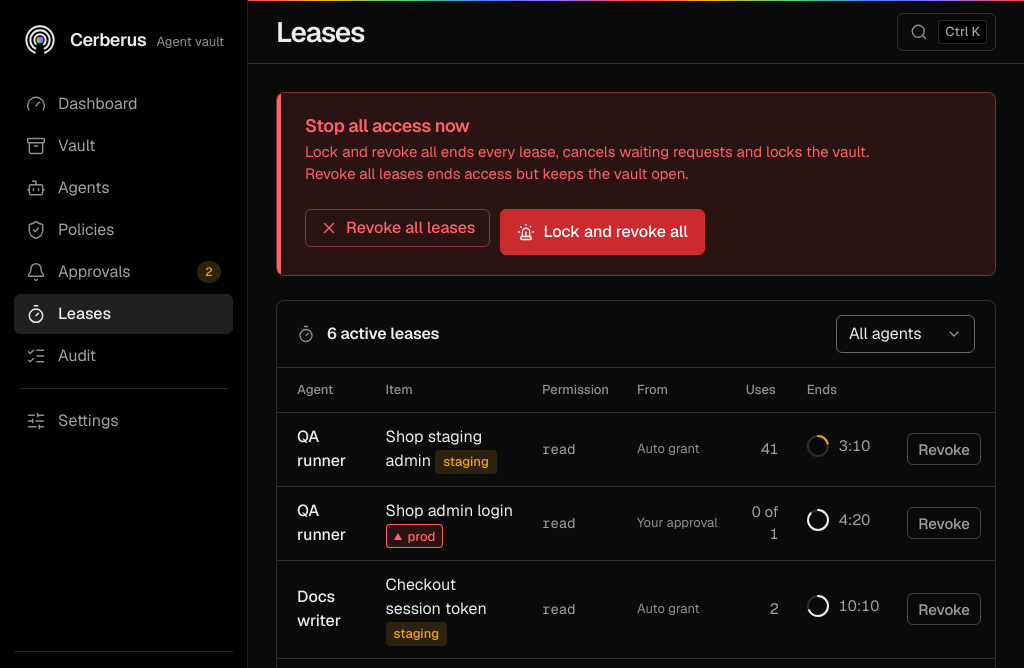
it: Leases screen › revokes one lease
The image size is (1024, 668).
Click the button with aria-label "Revoke lease of QA runner for Shop staging admin": [944, 449] box x1=907 y1=433 x2=981 y2=465
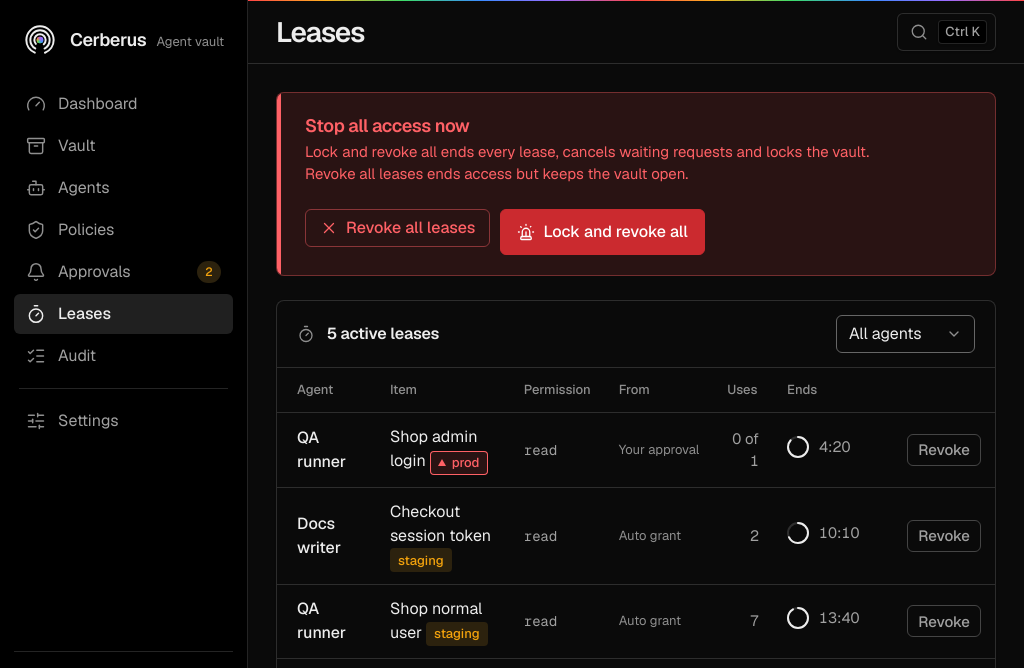
expect the heading "5 active leases" is shown: met, box x1=327 y1=322 x2=439 y2=346
